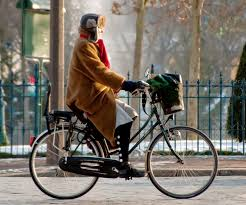bicycle: (25, 73, 220, 201)
